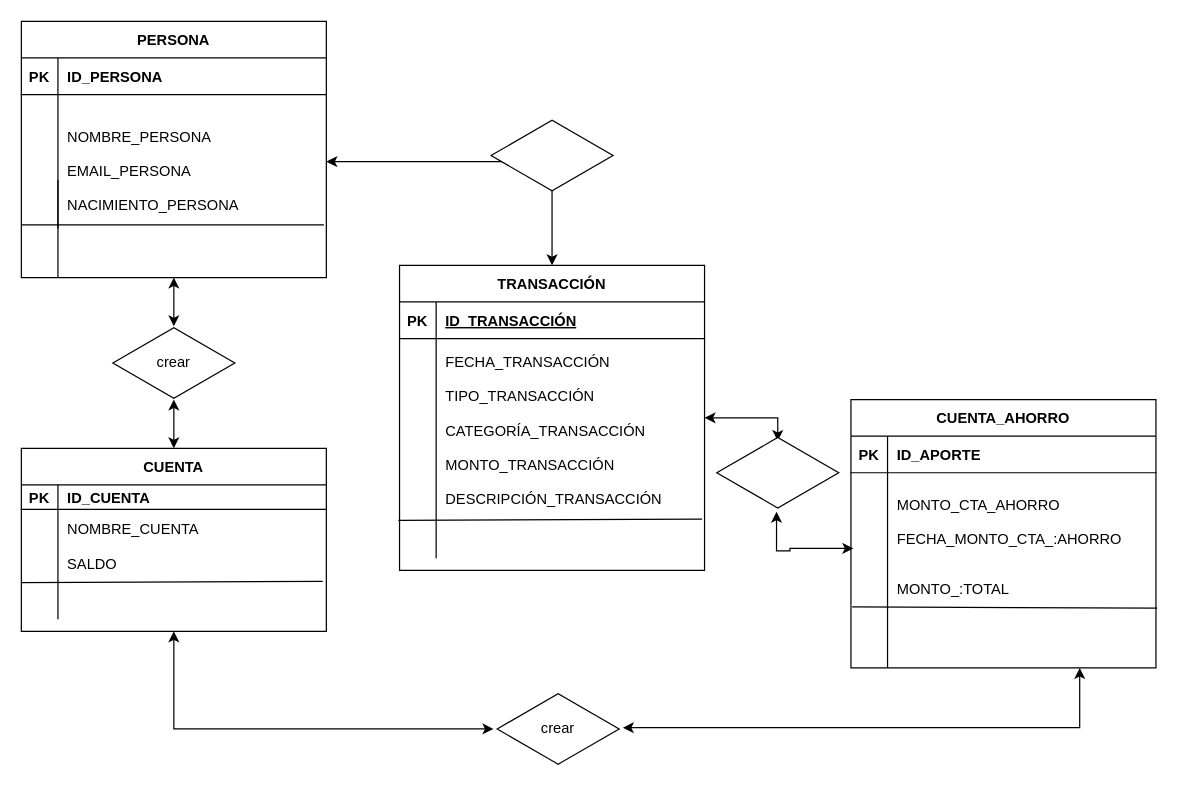
The diagram is 1180 pixels wide and 787 high, and some of its shapes have lost their labels. The centre of each missing label's shape, as x and y in pixels:
hacer: the point at 551,155
transferir: the point at 777,472
